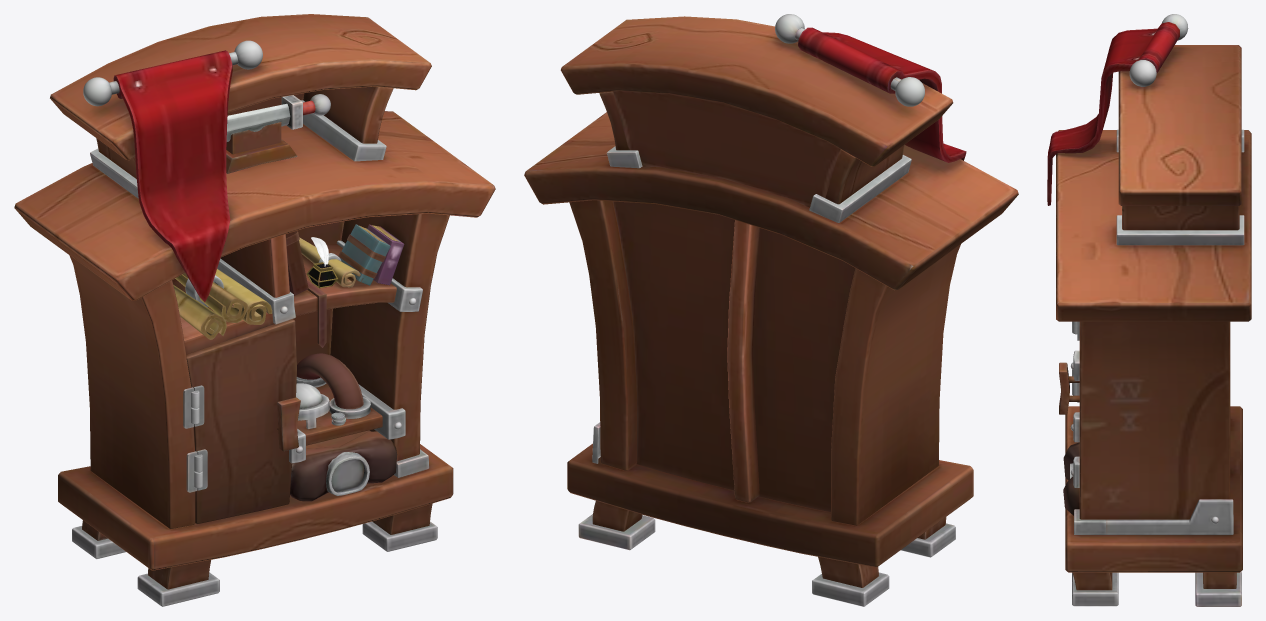
File: PRP_Bookshelf.glb
The picture shows the model from 3 angles, left to right: view 1: azimuth 30°, elevation 25°; view 2: azimuth 150°, elevation 25°; view 3: azimuth 270°, elevation 25°; orthographic projection. The views are drawn at different scales.
Parts seen in each view (by area): view 1: Flag_low_Bookcase_0, Bookcase_low_Bookcase1_0; view 2: Flag_low_Bookcase_0, Bookcase_low_Bookcase1_0; view 3: Flag_low_Bookcase_0.
Boxes of the visible parts, x1,y1,x2,y2 form: Flag_low_Bookcase_0: (14, 14, 495, 606); Bookcase_low_Bookcase1_0: (69, 255, 195, 528); Flag_low_Bookcase_0: (524, 14, 1018, 606); Bookcase_low_Bookcase1_0: (831, 244, 960, 525); Flag_low_Bookcase_0: (1047, 14, 1251, 606).
Size of the model in its own units: 5.27 by 6.72 by 2.61.
Materials: 3 (3 with a texture image).
